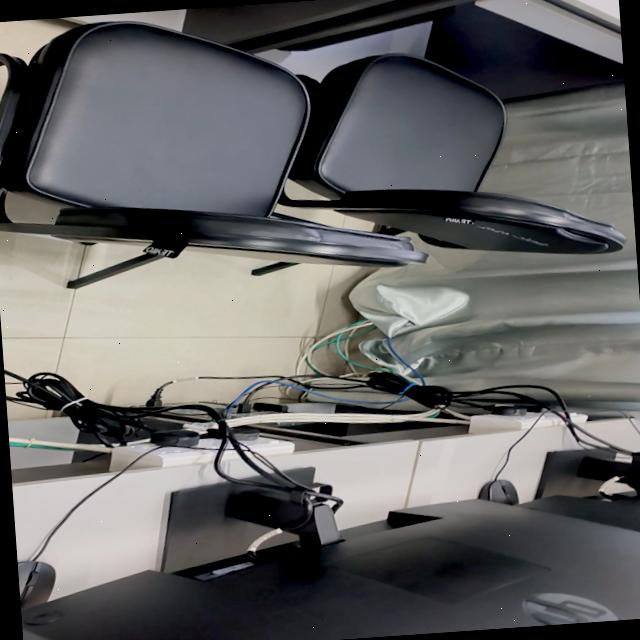Chair: (0, 21, 423, 265), (278, 54, 621, 253)
Cpu: (279, 7, 452, 52)
Monitor: (20, 483, 640, 640), (520, 450, 640, 532)
Mouse: (16, 561, 54, 609), (478, 479, 518, 505)
